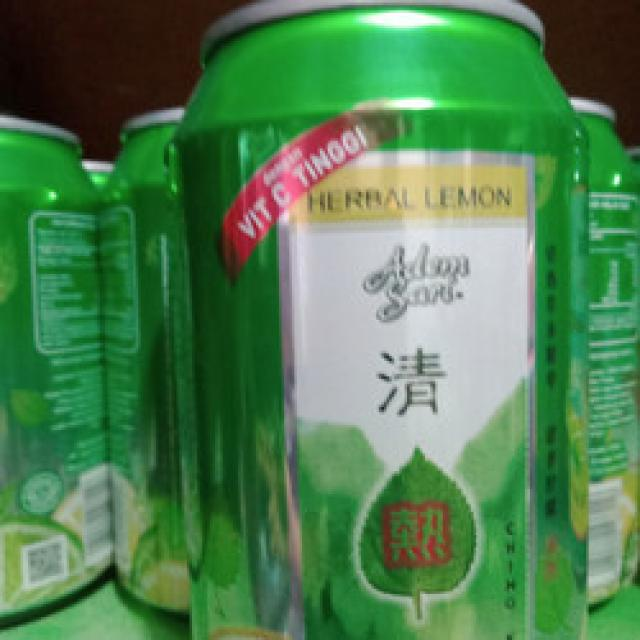ademsarikaleng: (166, 0, 591, 637)
